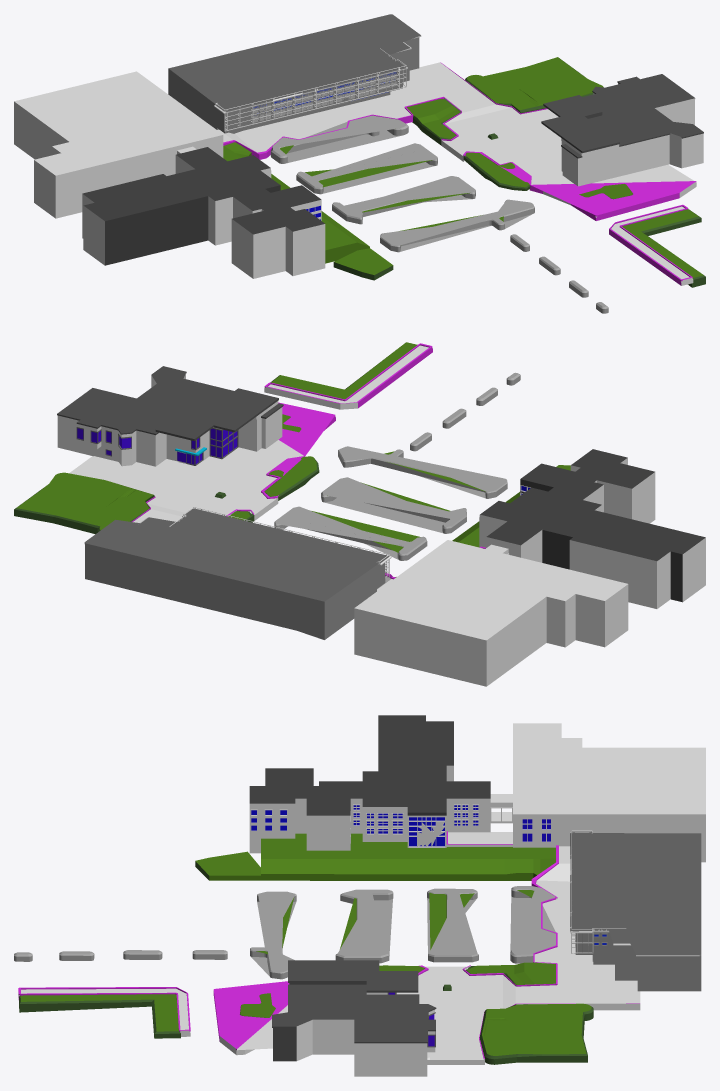
The model's file is OUTSIdESIMP3.fbx.
3 renders of one model, top to bottom at view 1: azimuth 30°, elevation 25°; view 2: azimuth 150°, elevation 25°; view 3: azimuth 270°, elevation 25°, orthographic. The views are drawn at different scales.
Visible parts, largest first — view 1: Cube; view 2: Cube; view 3: Cube.
Part boxes in pixels (bbox=[...]): Cube: bbox=[14, 14, 705, 313]; Cube: bbox=[14, 342, 705, 686]; Cube: bbox=[14, 715, 705, 1076].
Size of the model in its own units: 4488 by 406 by 4168.
